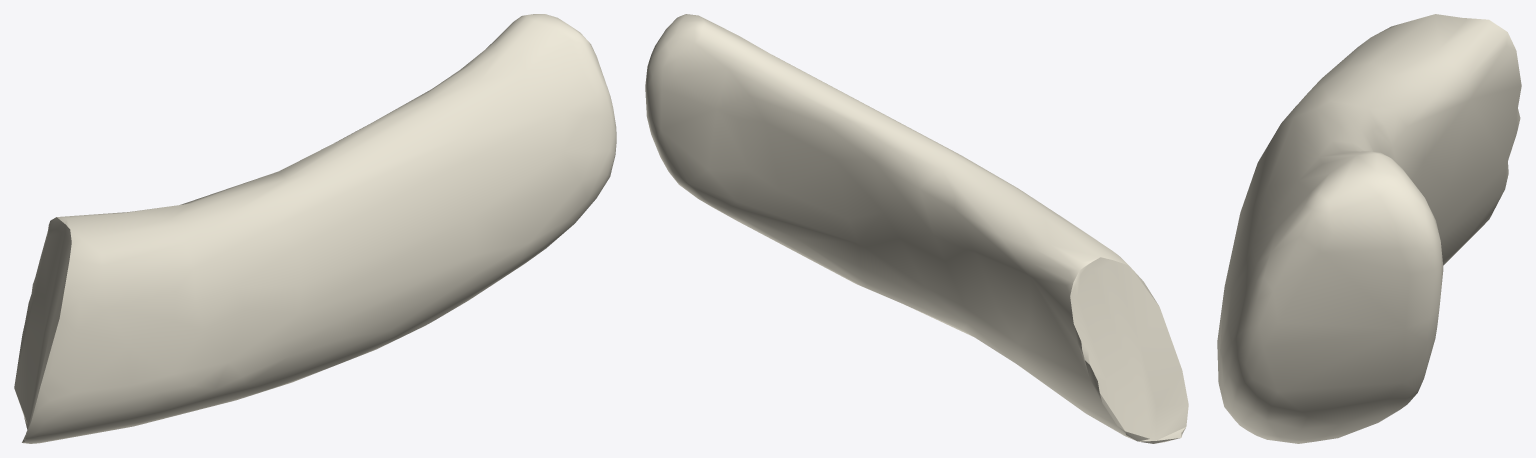
Rendered from fma7976_fj3339.glb.
3 views of the same model, side by side, from view 1: azimuth 30°, elevation 25°; view 2: azimuth 150°, elevation 25°; view 3: azimuth 270°, elevation 25° (orthographic). The views are drawn at different scales.
Visible parts, largest first — view 1: FMA7976_FJ3339; view 2: FMA7976_FJ3339; view 3: FMA7976_FJ3339.
Part boxes in pixels (x1,y1,x2,y2): FMA7976_FJ3339: (14,14,616,443); FMA7976_FJ3339: (645,14,1188,443); FMA7976_FJ3339: (1217,14,1521,443).
Size of the model in its own units: 0.0456 by 0.0245 by 0.0144.
